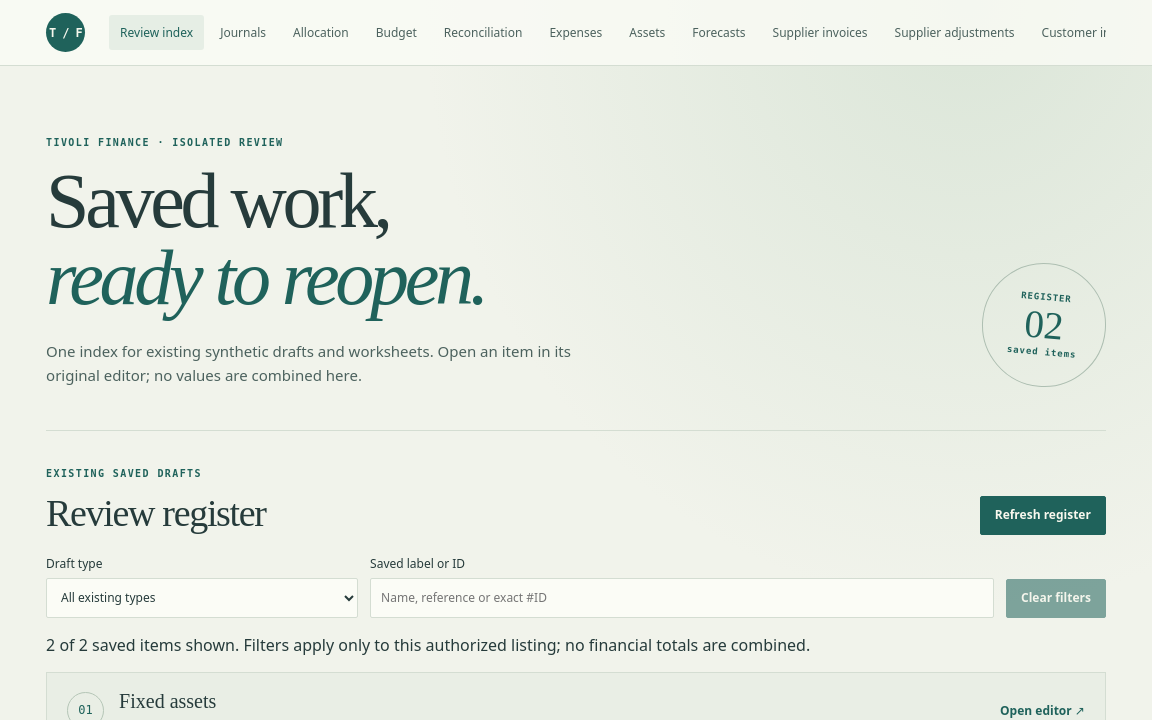
Scenario: refresh removing a selected type never silently widens the filter or retains old rows
This screenshot has width=1152, height=720.
Select "Fixed assets" in the dropdown named "Draft type" at (202, 598), box top-left (46, 578), bottom-right (358, 618)
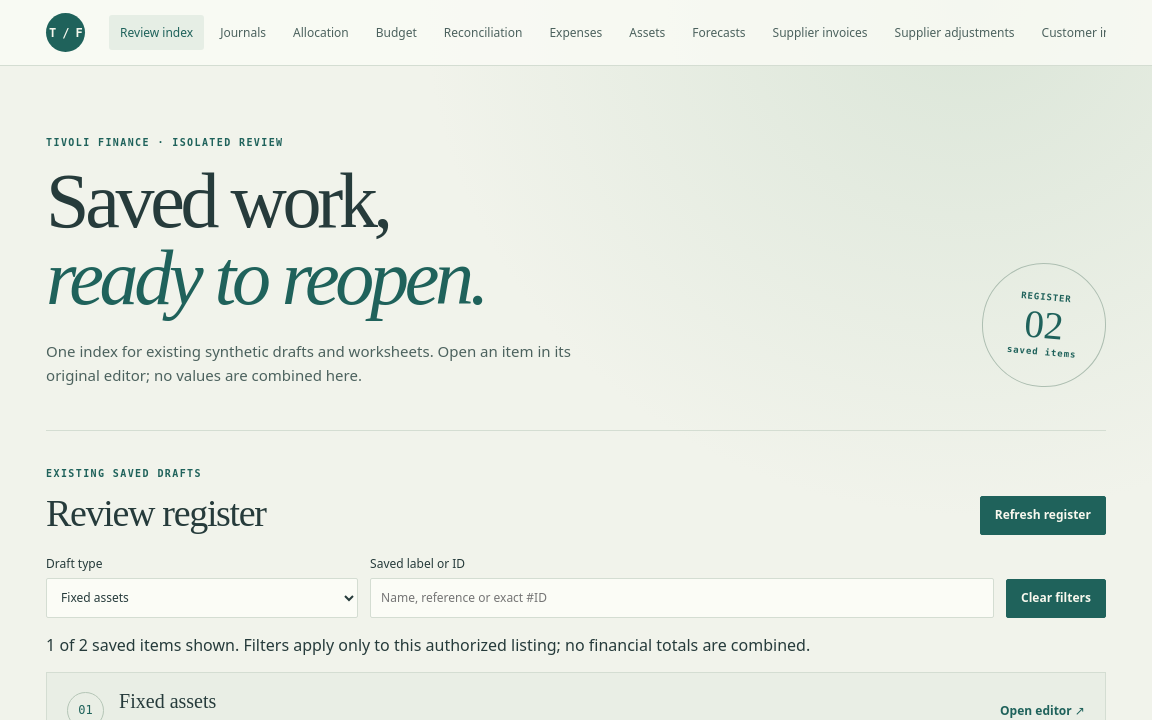
Click the button "Refresh register".
click(1043, 515)  # box top-left (980, 496), bottom-right (1106, 535)
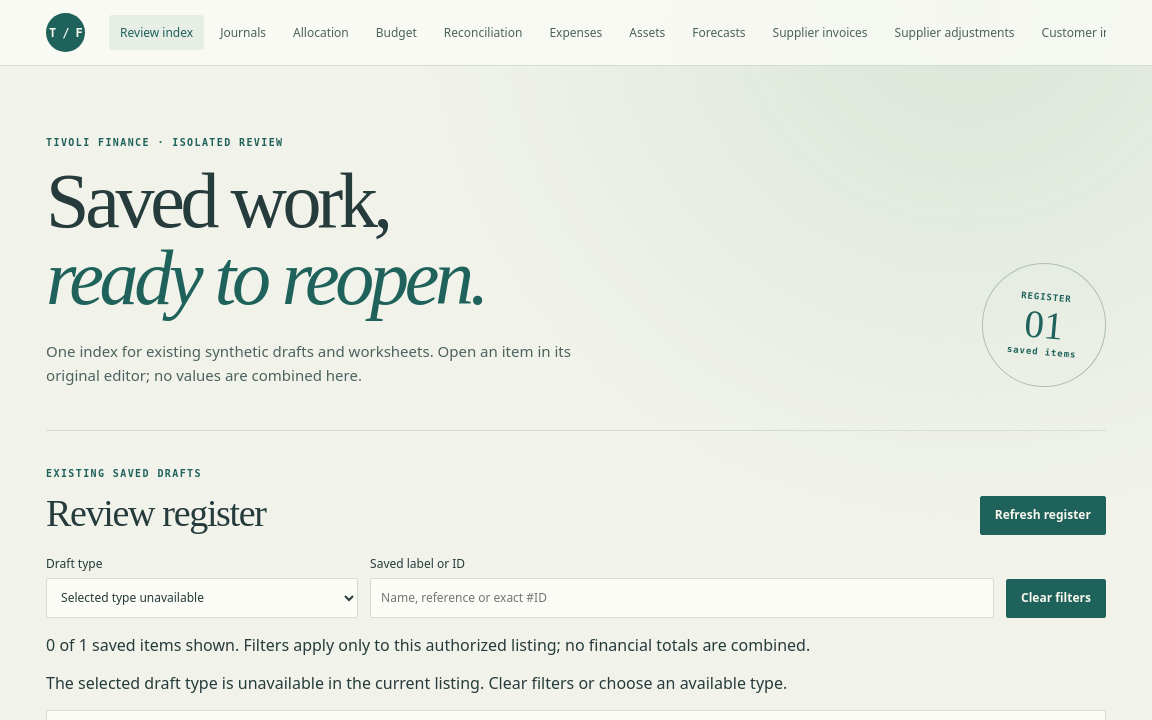
Check: the text "selected draft type is unavailable" is shown, box top-left (46, 672), bottom-right (787, 694)
Click the button "Clear filters".
click(1056, 598)  # box top-left (1006, 579), bottom-right (1106, 618)
(page scrolled)
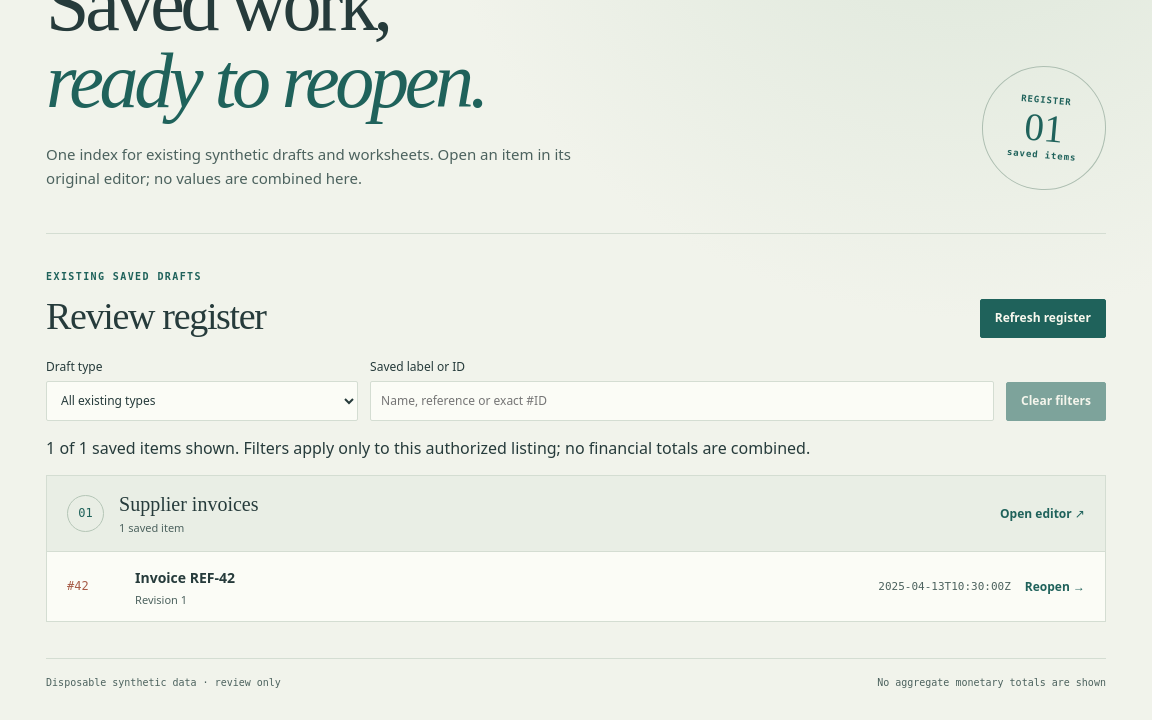
Check: the link to "/lab-invoices-ui/?reopen=42" is shown, box top-left (1025, 578), bottom-right (1085, 595)
